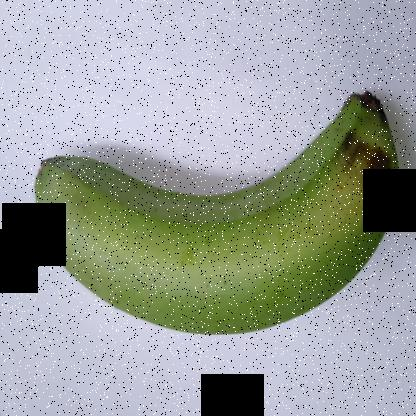freshunripe: (29, 78, 411, 348)
